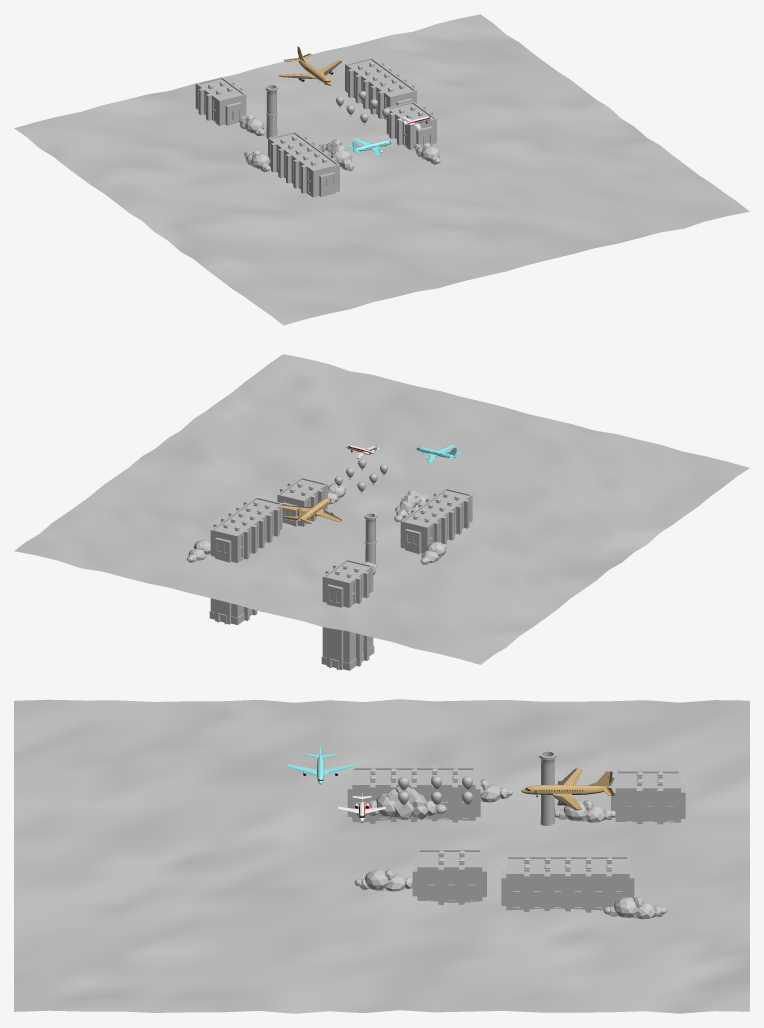
File: changjing8_4.fbx
The picture shows the model from 3 angles, top to bottom: view 1: azimuth 30°, elevation 25°; view 2: azimuth 150°, elevation 25°; view 3: azimuth 270°, elevation 25°; orthographic projection. The views are drawn at different scales.
Visible parts, largest first — view 1: tiankong1, jianzhuwu, jianzhuwu1, FeiJi005; view 2: tiankong1, jianzhuwu1, jianzhuwu, FeiJi005; view 3: tiankong1, jianzhuwu, jianzhuwu1, FeiJi005, FeiJi004.
Boxes of the visible parts, <box> form: tiankong1: <box>14,14,749,325</box>; jianzhuwu: <box>244,84,440,197</box>; jianzhuwu1: <box>195,57,416,135</box>; FeiJi005: <box>278,46,341,85</box>; tiankong1: <box>14,354,749,664</box>; jianzhuwu1: <box>186,497,376,670</box>; jianzhuwu: <box>277,477,472,564</box>; FeiJi005: <box>278,498,341,523</box>; tiankong1: <box>14,699,749,1013</box>; jianzhuwu: <box>347,750,556,905</box>; jianzhuwu1: <box>501,768,685,919</box>; FeiJi005: <box>521,768,614,810</box>; FeiJi004: <box>286,744,354,784</box>.
Size of the model in its own units: 34312 by 8731 by 34312.
